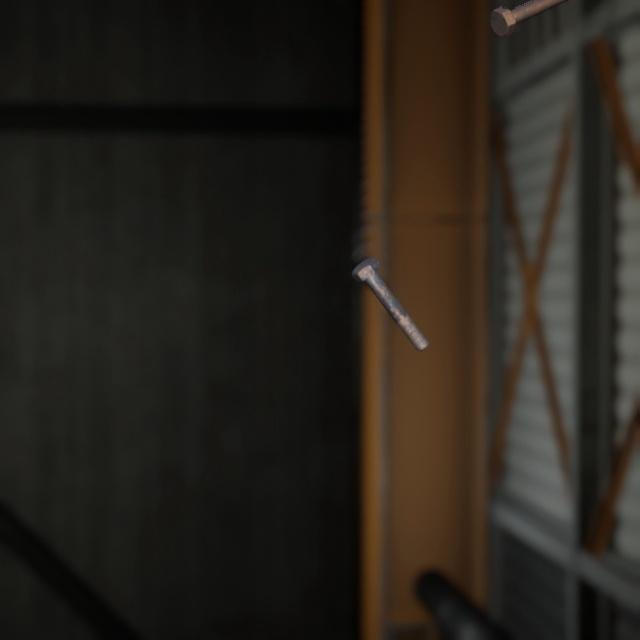bolt: (347, 236, 433, 339), (485, 0, 558, 34)
